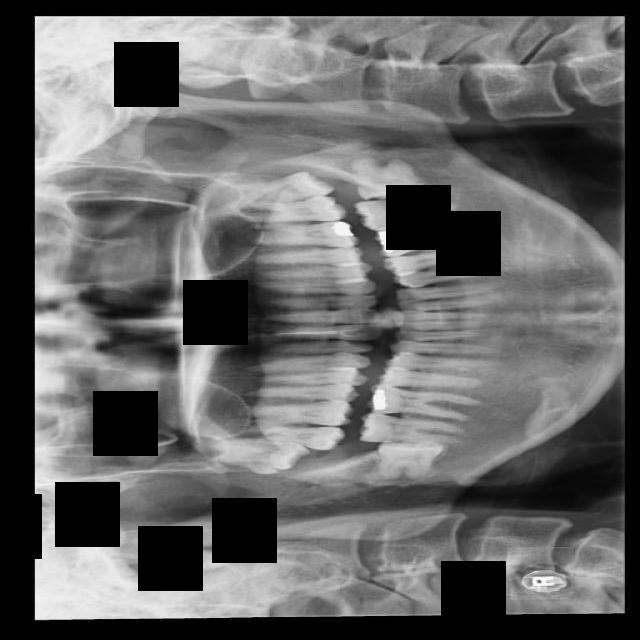52: (363, 380, 410, 421), (374, 227, 419, 256), (314, 220, 360, 247), (337, 322, 384, 341)
73: (265, 325, 338, 338), (558, 40, 566, 44)
BioHorizons Implant: (237, 195, 346, 222)
BioLife Implant: (226, 166, 337, 214)
Biomet 3i Implant: (355, 154, 428, 202)
Blue Sky Bio Implant: (352, 189, 461, 232)
Caries: (228, 424, 346, 450)
Implant: (358, 411, 465, 444)
Keystone Dental Implant: (375, 434, 444, 481)
